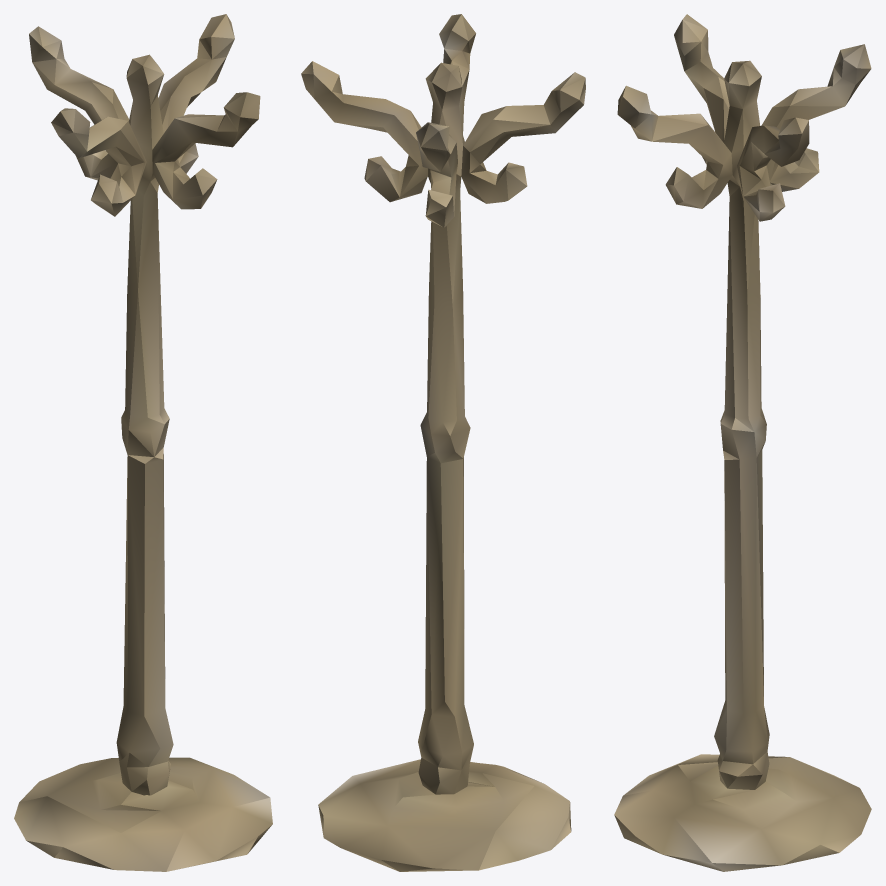
Rendered from Hanger01.fbx.
3 views of the same model, side by side, from view 1: azimuth 30°, elevation 25°; view 2: azimuth 150°, elevation 25°; view 3: azimuth 270°, elevation 25° (orthographic).
Visible parts, largest first — view 1: Hanger; view 2: Hanger; view 3: Hanger.
Boxes of the visible parts, x1,y1,x2,y2 form: Hanger: (14,14,272,871); Hanger: (301,14,585,871); Hanger: (614,14,871,871).
Bounding box in the file's own units: 58.05 × 184 × 56.76.
